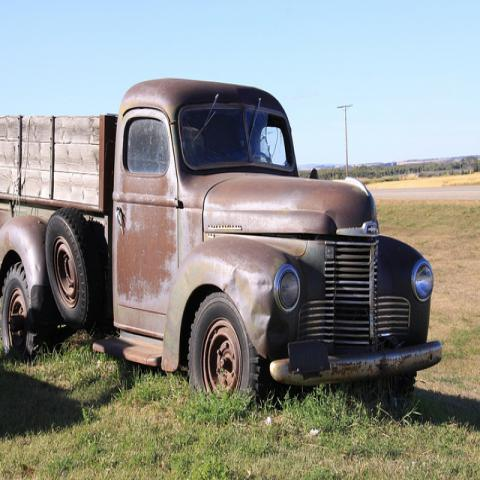truck: (1, 74, 443, 412)
